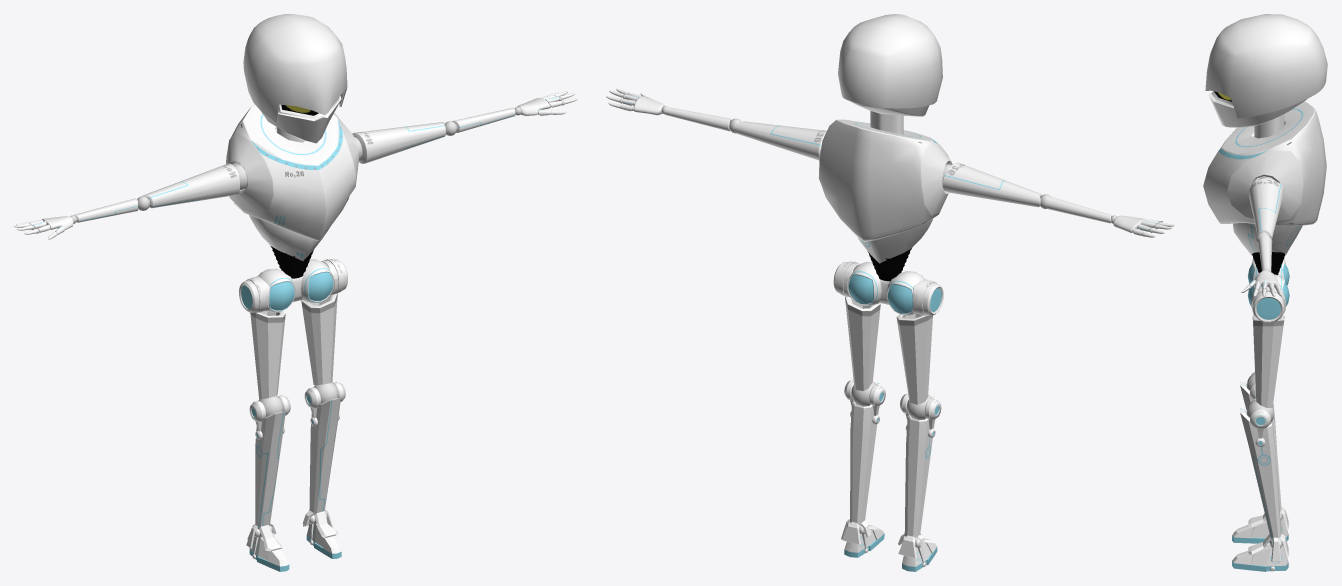
Rendered from body.fbx.
The picture shows the model from 3 angles, left to right: view 1: azimuth 30°, elevation 25°; view 2: azimuth 150°, elevation 25°; view 3: azimuth 270°, elevation 25°; orthographic projection.
Parts seen in each view (by area): view 1: BodyA, polySurface6, pCube6 (×2), pCube5 (×2), pCube8 (×2), kosi1, polySurface32, pCube9 (×2), BodyB, polySurface9, pCube7; view 2: BodyA, polySurface6, pCube6 (×2), pCube5 (×2), pCube8 (×2), kosi1, pCube9 (×2), BodyB, polySurface9; view 3: BodyA, polySurface6, pCube6 (×2), pCube5, pCube7 (×2), pCube8, BodyB, polySurface32, polySurface9, kosi1, polySurface16, pCube9 (+3 smaller).
Boxes of the visible parts, x1,y1,x2,y2 form: BodyA: (226,104,359,240); polySurface6: (243,14,347,122); pCube6 (×2): (246,398,340,551); pCube5 (×2): (250,293,337,399); pCube8 (×2): (142,122,446,208); kosi1: (258,259,334,312); polySurface32: (261,96,341,143); pCube9 (×2): (73,107,515,222); BodyB: (244,189,329,261); polySurface9: (239,276,269,312); pCube7: (249,536,289,571); BodyA: (818,111,952,241); polySurface6: (838,14,942,108); pCube6 (×2): (841,382,935,559); pCube5 (×2): (845,296,932,404); pCube8 (×2): (733,121,1041,207); kosi1: (847,262,924,315); pCube9 (×2): (663,107,1111,223); BodyB: (857,219,932,263); polySurface9: (912,279,943,315); BodyA: (1203,101,1326,226); polySurface6: (1205,14,1327,118); pCube6 (×2): (1240,381,1288,561); pCube5: (1252,315,1284,407); pCube7 (×2): (1232,517,1288,571); pCube8: (1249,178,1284,239); BodyB: (1233,223,1302,255); polySurface32: (1208,91,1306,127); polySurface9: (1252,287,1284,322); kosi1: (1247,259,1289,306); polySurface16: (1250,398,1270,446); pCube9: (1258,236,1272,271).
Size of the model in its own units: 2.14 by 1.94 by 0.4109.
Materials: 18 (17 with a texture image).
